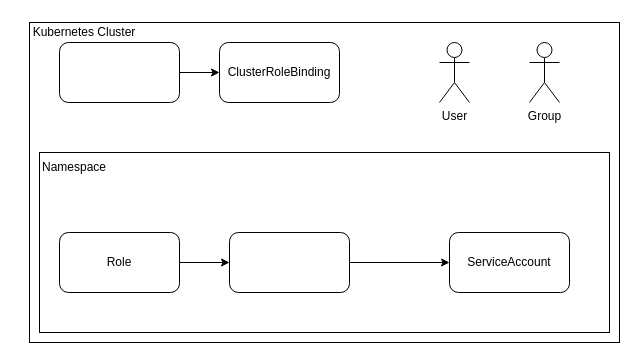
Some shapes in this 637 by 360 pixel diagram are drawn without their labels. The box of each missing label's shape, as (x1, y1, x2, y2) in pixels:
ClusterRole: (58, 42, 180, 102)
RoleBinding: (228, 232, 350, 292)
